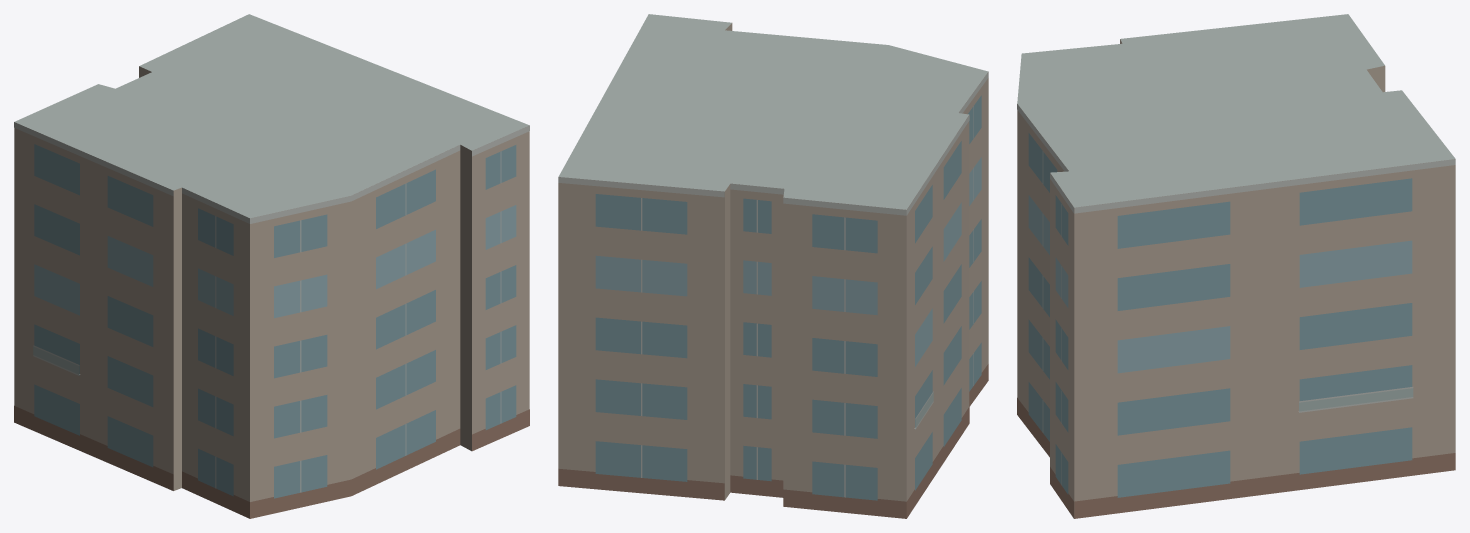
File: survey-upis-32626166.glb
3 views of the same model, side by side, from view 1: azimuth 30°, elevation 25°; view 2: azimuth 150°, elevation 25°; view 3: azimuth 270°, elevation 25° (orthographic). The views are drawn at different scales.
Parts seen in each view (by area): view 1: survey-upis-32626166.tmp; view 2: survey-upis-32626166.tmp; view 3: survey-upis-32626166.tmp.
Part boxes in pixels (x1,y1,x2,y2): survey-upis-32626166.tmp: (14, 14, 529, 518); survey-upis-32626166.tmp: (558, 14, 988, 518); survey-upis-32626166.tmp: (1017, 14, 1455, 518).
Bounding box in the file's own units: 16.96 × 12.7 × 16.23.
